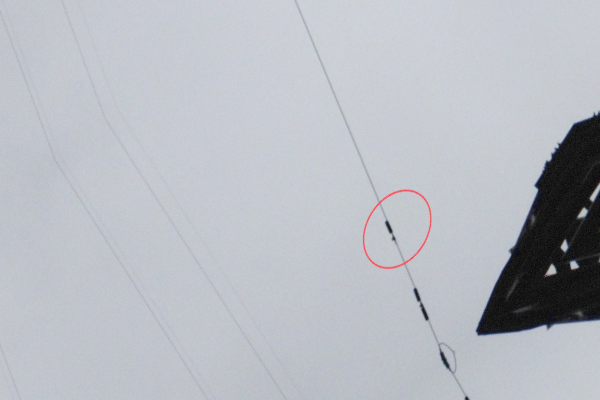damper: (412, 284, 429, 324)
damper_defect: (380, 218, 397, 247)
